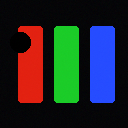2 circle: (10, 32, 30, 52)
